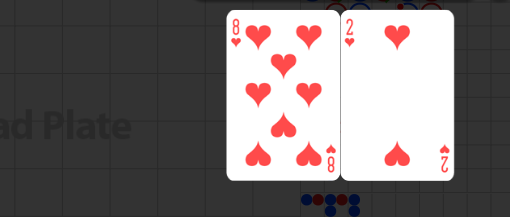2H: (438, 142, 451, 174)
8H: (230, 18, 243, 49)
